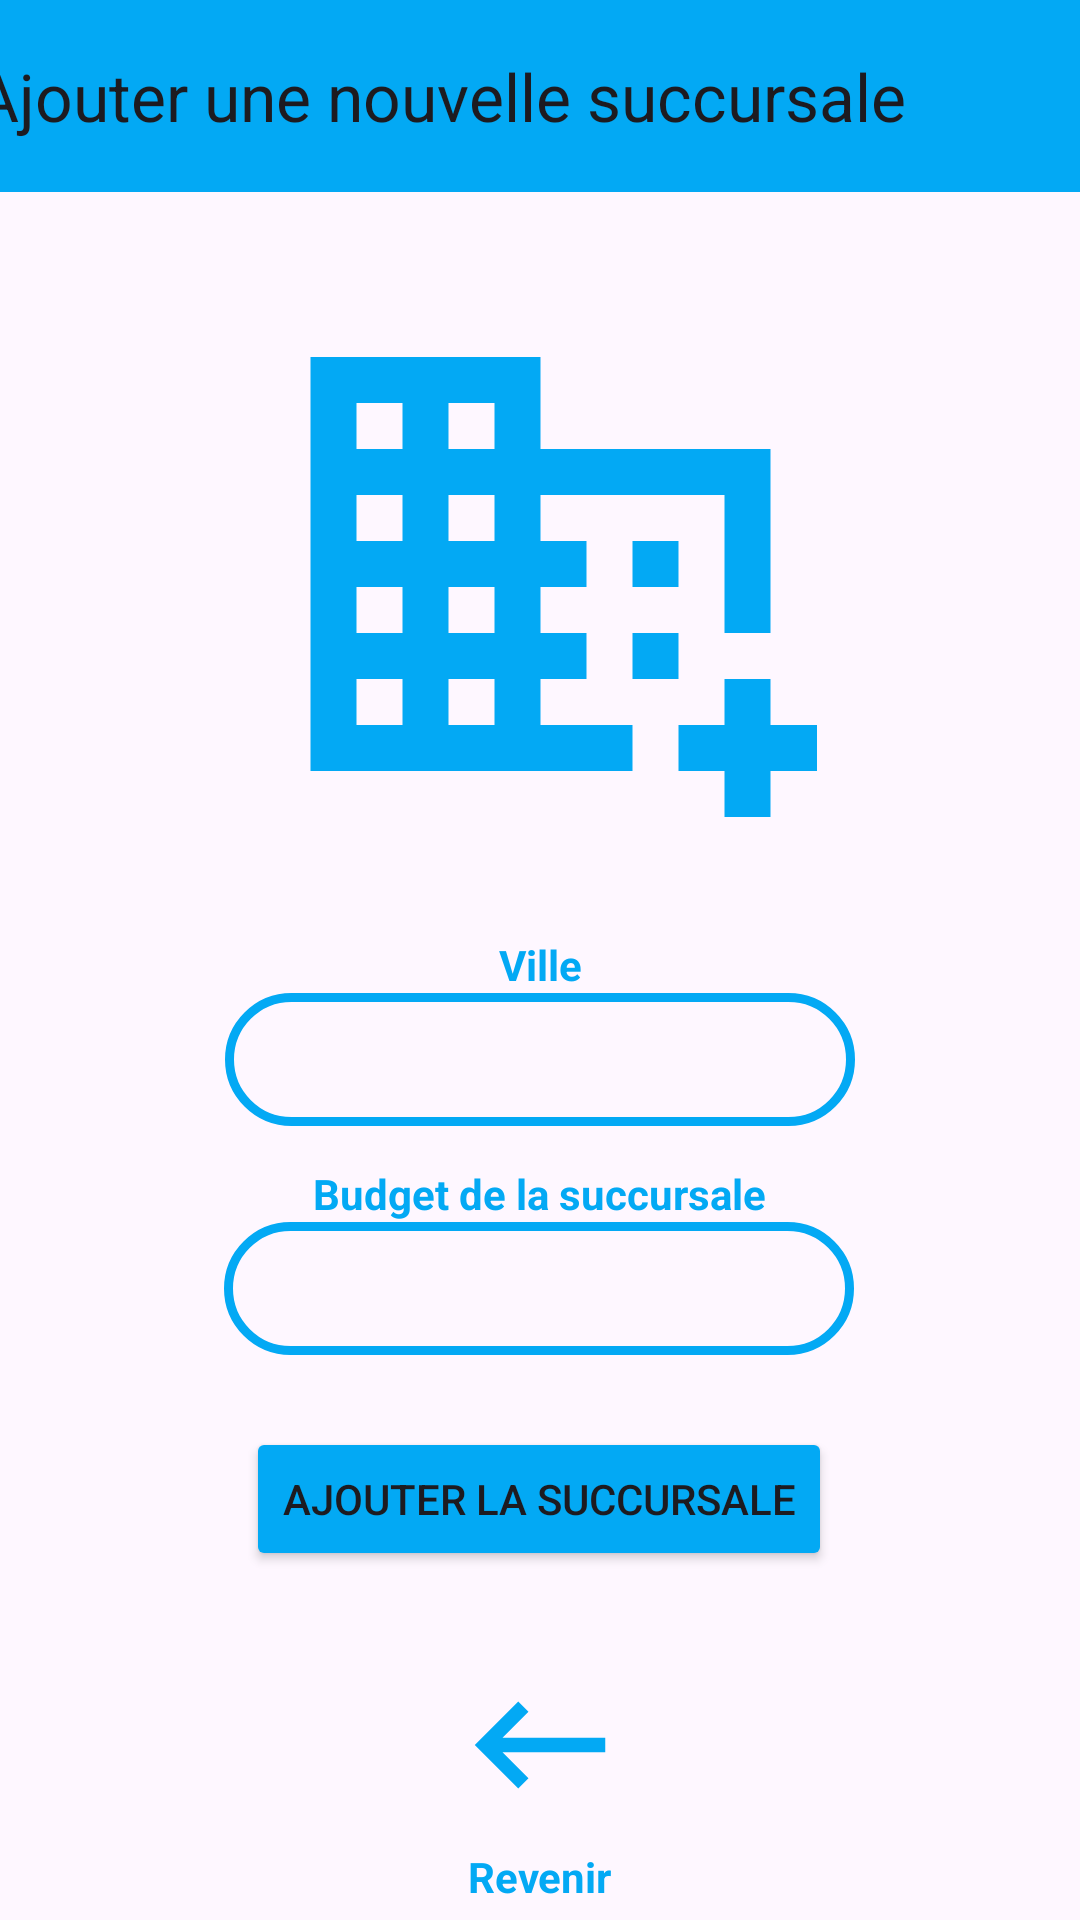

Point at icon controls on the screen. Image size 1080 x 1920, points as (x=x, y=y).
keyboard backspace: (x=540, y=1745)
